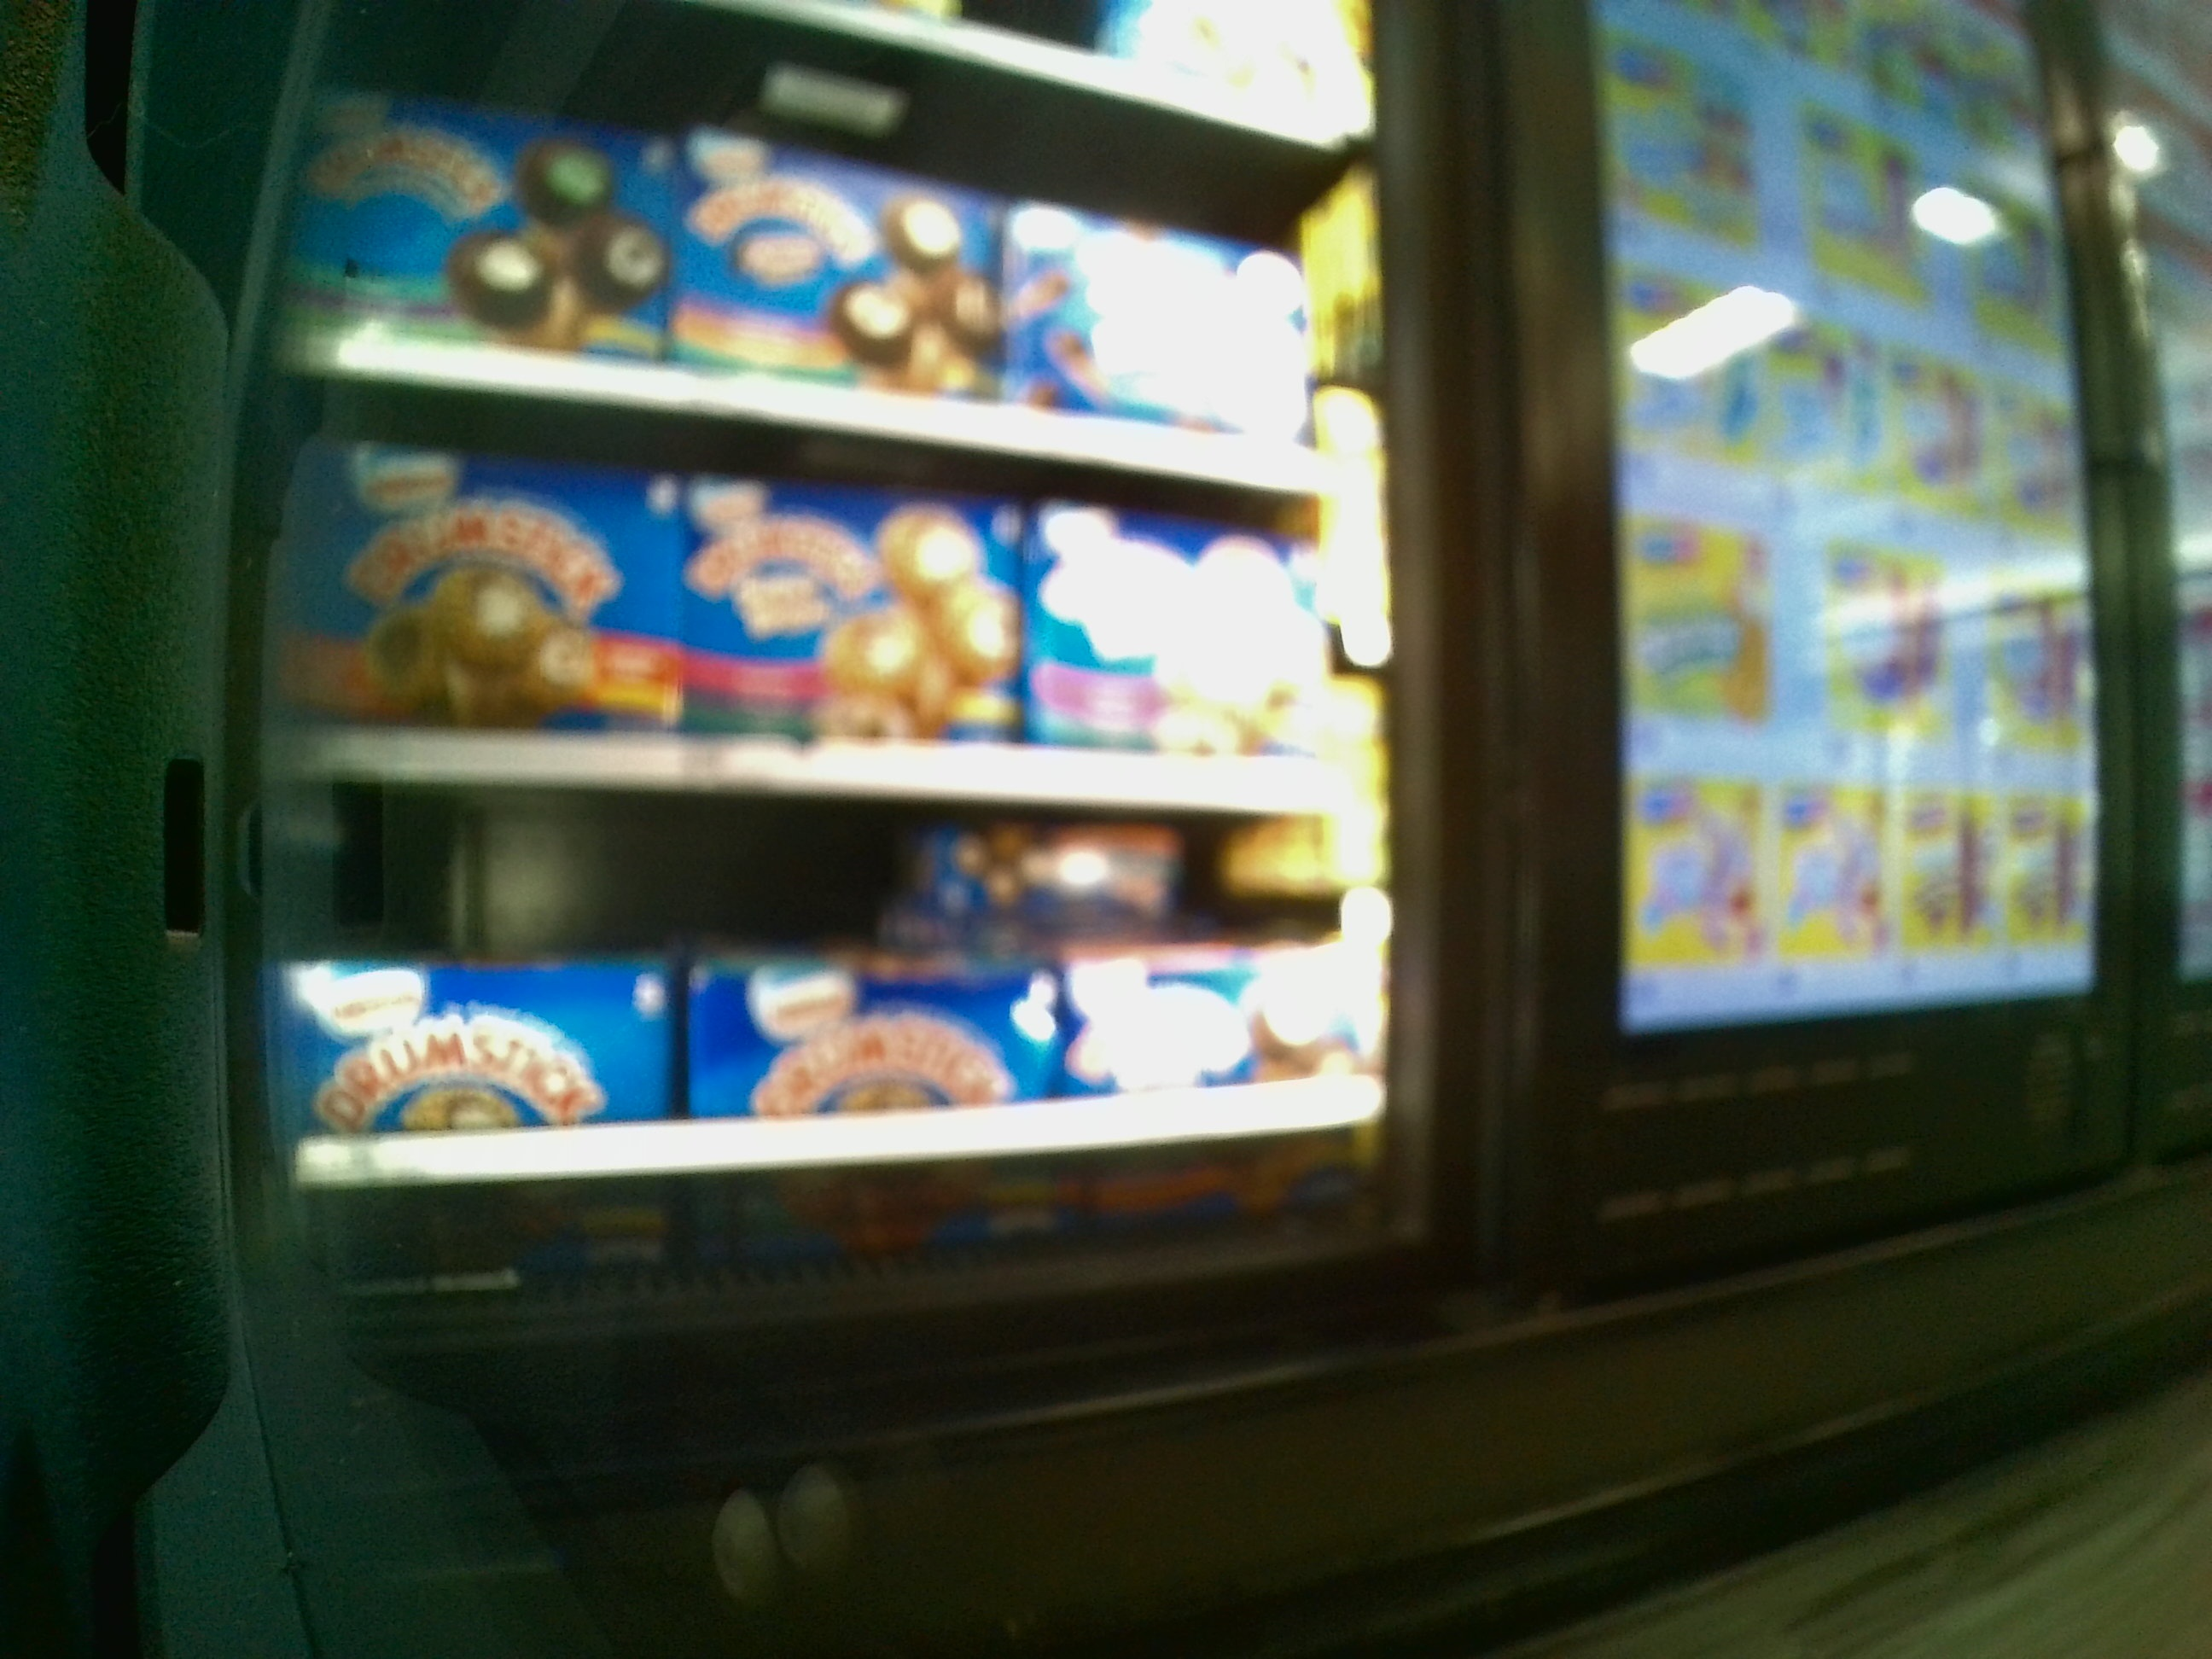shelf: (284, 793, 1399, 1258), (275, 455, 1381, 789)
